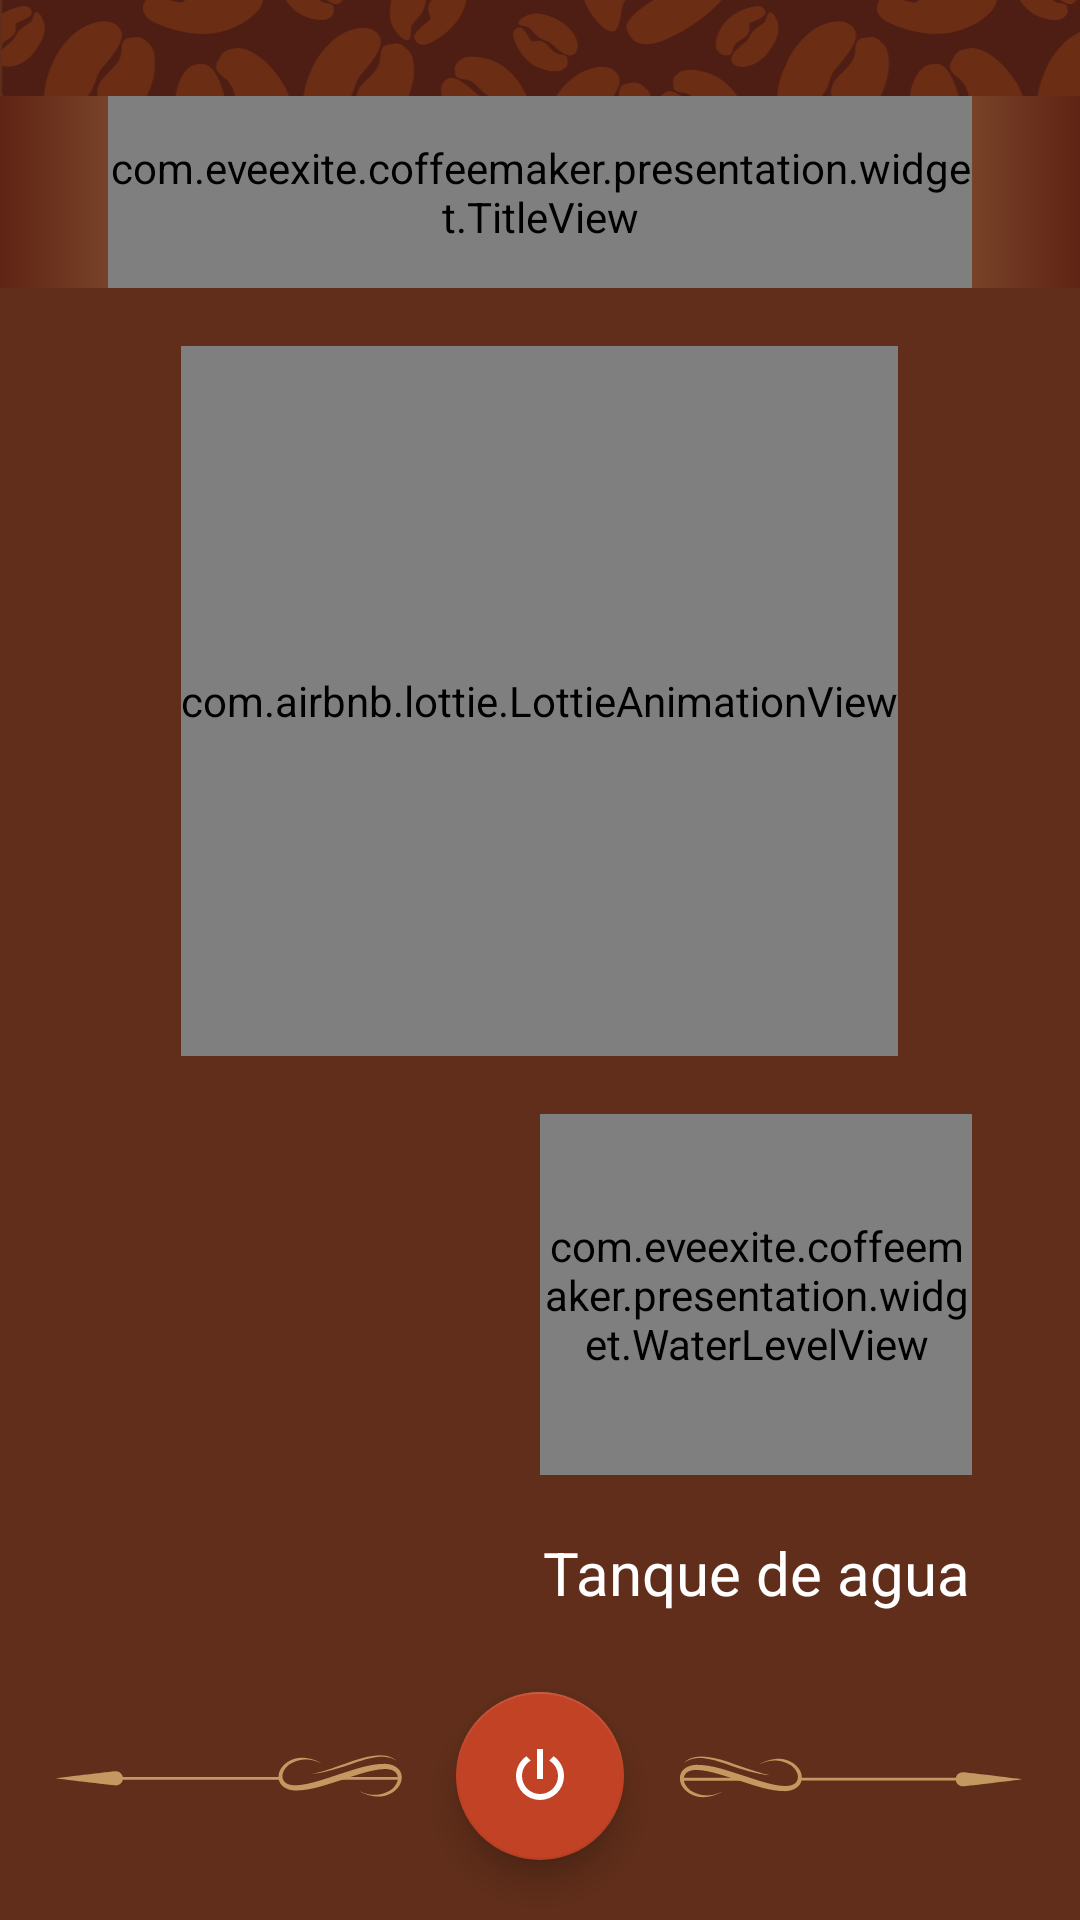

Named icons in this screenshot (1080x1920) and their centers, (x,y):
power: (540,1776)
